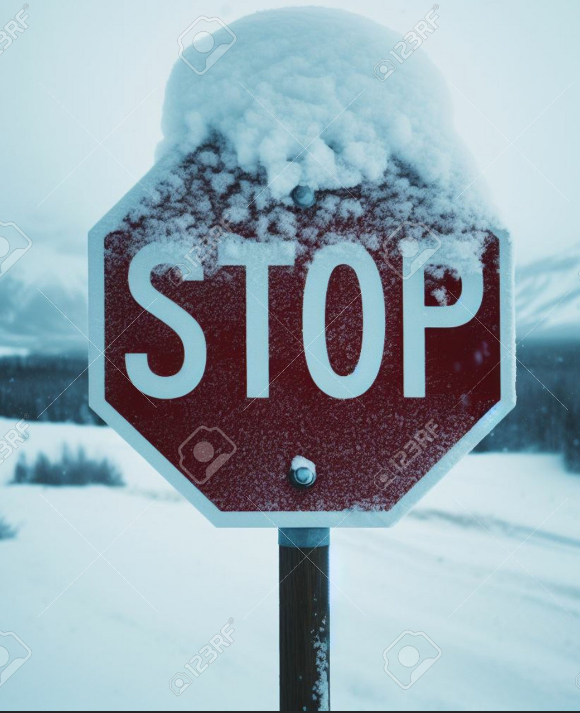Stop: (82, 121, 513, 547)
